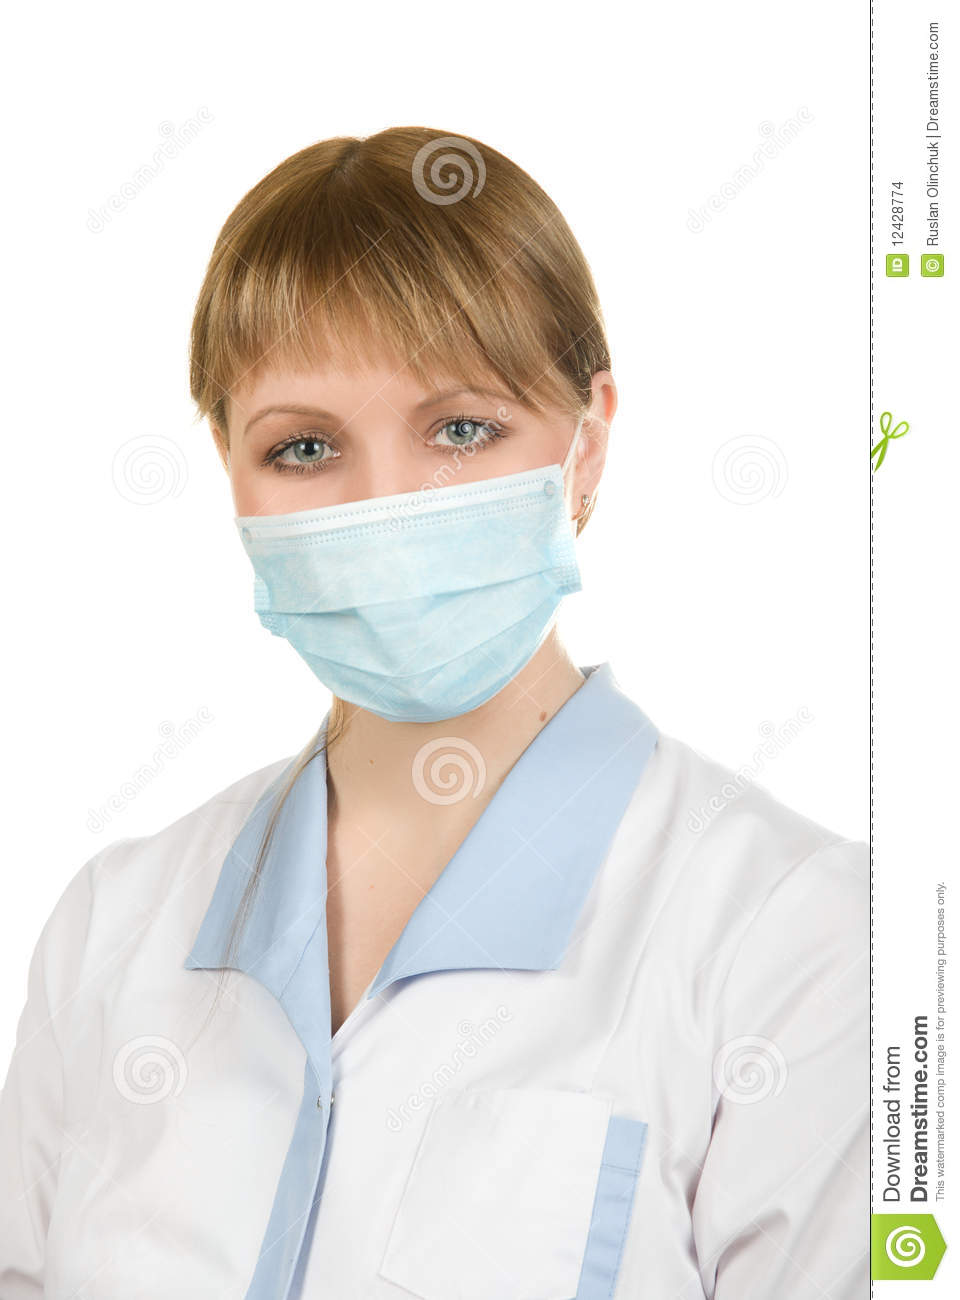mask: (245, 455, 581, 721)
